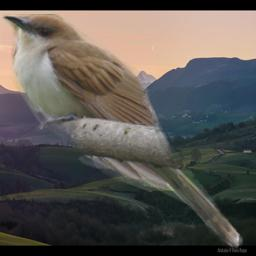Cuckoo: (1, 14, 243, 249)
